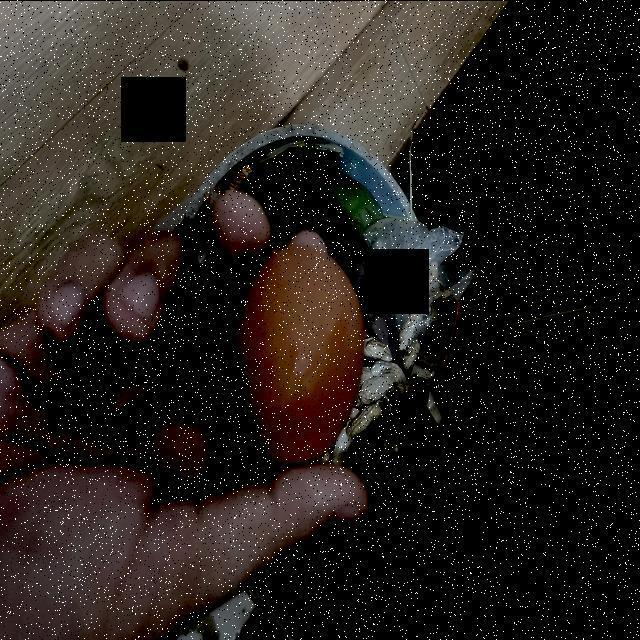egg: (216, 243, 375, 461)
